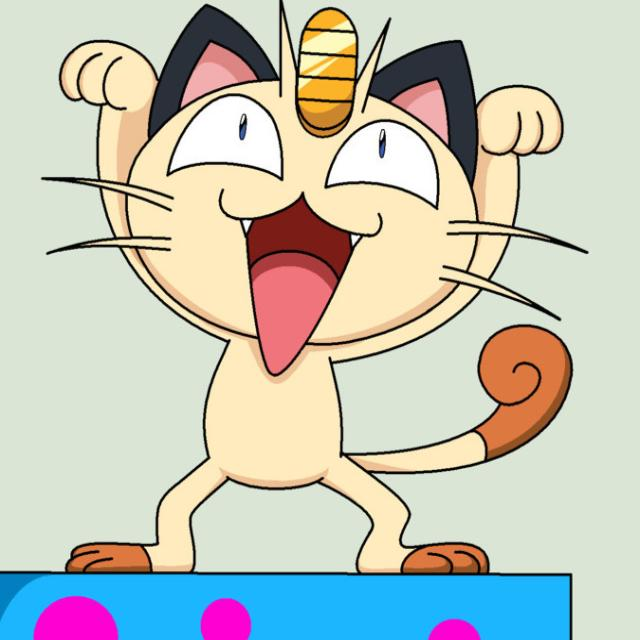Meowth: (122, 9, 494, 574)
